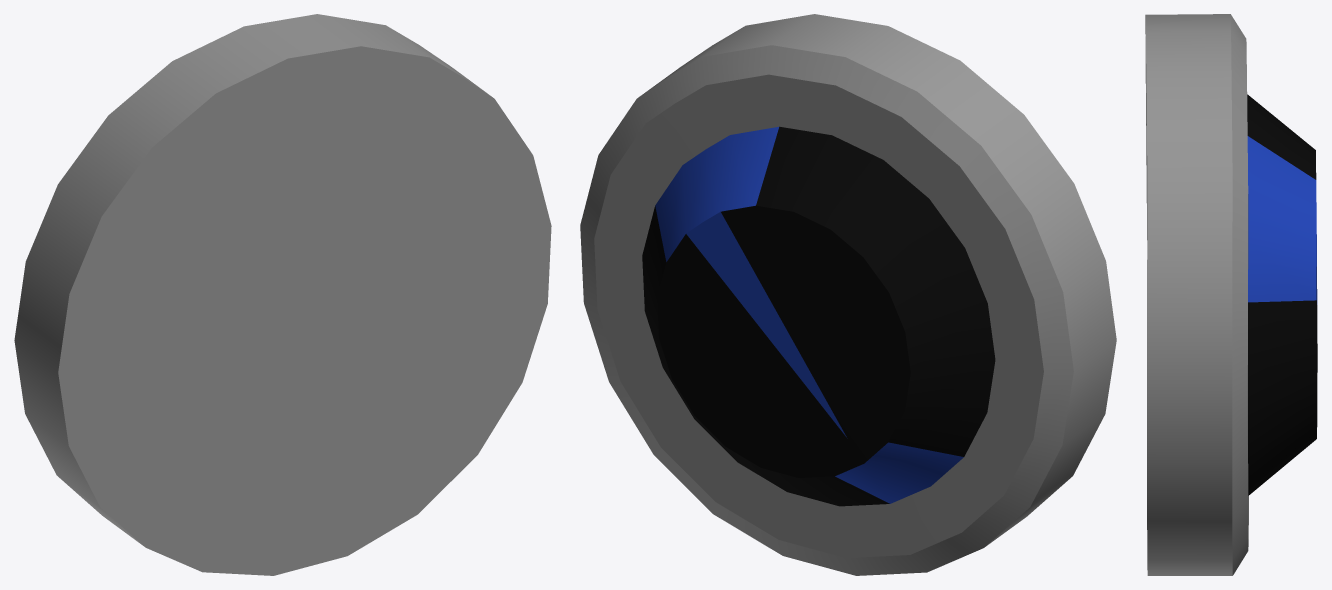
File: Ending_round_02.FBX
3 renders of one model, left to right at view 1: azimuth 30°, elevation 25°; view 2: azimuth 150°, elevation 25°; view 3: azimuth 270°, elevation 25°, orthographic.
Parts seen in each view (by area): view 1: Ending006; view 2: Ending006; view 3: Ending006.
Boxes of the visible parts, bbox=[...] form: Ending006: bbox=[14, 14, 551, 575]; Ending006: bbox=[580, 14, 1116, 575]; Ending006: bbox=[1145, 14, 1317, 575].
Bounding box in the file's own units: 443 × 442 × 136.
